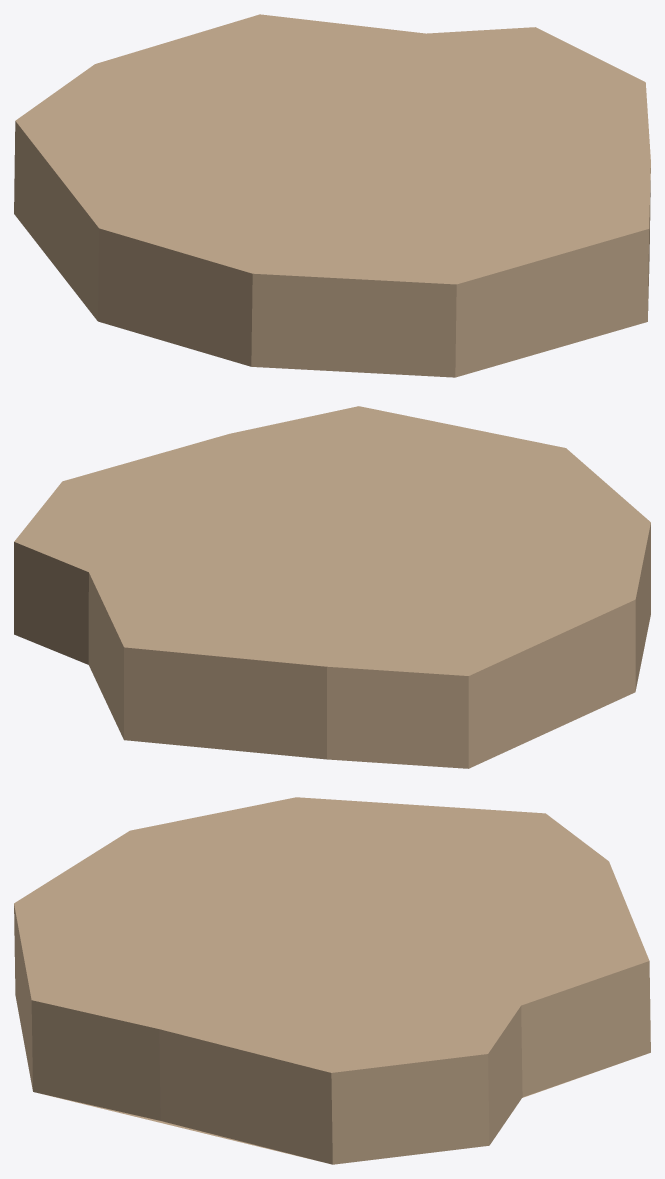
File: flat_rock_small_01.fbx
3 views of the same model, one above another, from view 1: azimuth 30°, elevation 25°; view 2: azimuth 150°, elevation 25°; view 3: azimuth 270°, elevation 25° (orthographic).
Parts seen in each view (by area): view 1: flat_rock_small_01; view 2: flat_rock_small_01; view 3: flat_rock_small_01.
Part boxes in pixels (<box>): flat_rock_small_01: <box>14,14,650,377</box>; flat_rock_small_01: <box>14,406,650,768</box>; flat_rock_small_01: <box>14,797,650,1164</box>.
Size of the model in its own units: 184 by 33.84 by 183.
